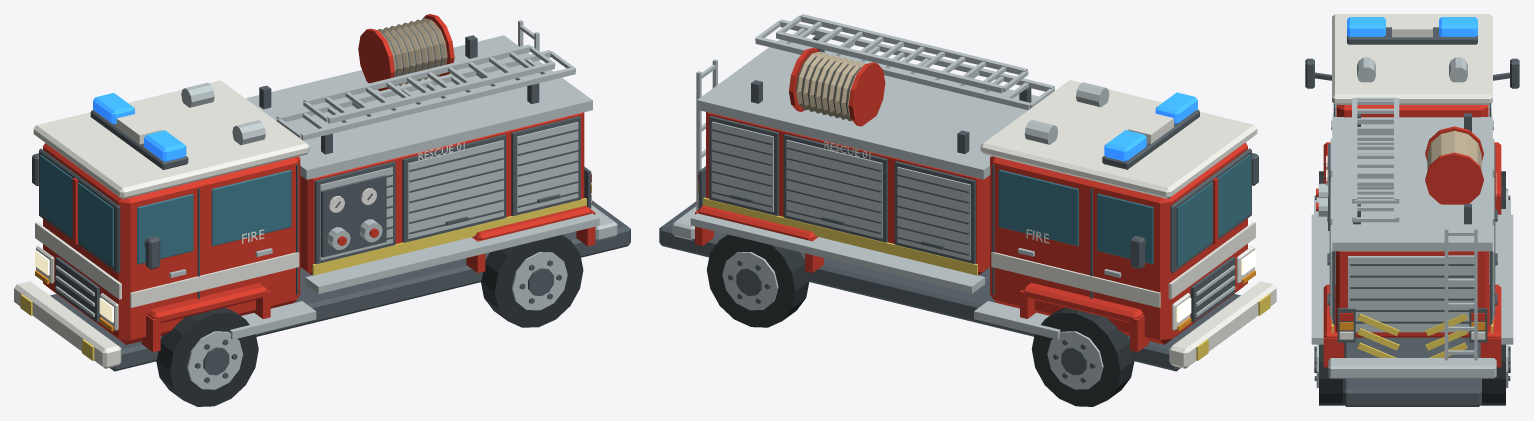
File: Fire_Truck.fbx
The picture shows the model from 3 angles, left to right: view 1: azimuth 30°, elevation 25°; view 2: azimuth 150°, elevation 25°; view 3: azimuth 270°, elevation 25°; orthographic projection. The views are drawn at different scales.
Visible parts, largest first — view 1: Roof Deck, Cabin Roof.001, Crew Cabin, Main Chassis, Locker Roller Shutter.001, Side Running Board, Tire, Tire.002, Cabin Side Window.003, Locker Roller Shutter.002, Equipment Body, Pump Control Panel (+32 smaller); view 2: Roof Deck, Cabin Roof.001, Crew Cabin, Main Chassis, Locker Roller Shutter.004, Side Running Board.001, Tire.001, Locker Roller Shutter.003, Tire.003, Cabin Side Window.005, Locker Roller Shutter.005, Equipment Body (+33 smaller); view 3: Roof Deck, Cabin Roof.001, Rear Door, Main Chassis, Rear Bumper, Equipment Body, Hose Reel Flange.001, Side Running Board.001, Side Running Board, Crew Cabin, Lightbar Base, Tire.002 (+39 smaller).
Part boxes in pixels (x1,y1,x2,y2): Roof Deck: (246, 35, 592, 179); Cabin Roof.001: (33, 80, 309, 199); Crew Cabin: (43, 143, 300, 344); Main Chassis: (50, 200, 630, 371); Locker Roller Shutter.001: (407, 140, 503, 238); Side Running Board: (305, 213, 599, 293); Tire: (156, 307, 258, 406); Tire.002: (481, 234, 583, 327); Cabin Side Window.003: (211, 170, 291, 246); Locker Roller Shutter.002: (516, 122, 578, 212); Equipment Body: (300, 112, 584, 274); Pump Control Panel: (321, 175, 386, 257); Roof Deck: (697, 39, 1038, 179); Cabin Roof.001: (980, 80, 1257, 198); Crew Cabin: (990, 142, 1247, 344); Main Chassis: (659, 201, 1240, 371); Locker Roller Shutter.004: (786, 139, 882, 238); Side Running Board.001: (690, 213, 985, 293); Tire.001: (1031, 307, 1134, 406); Locker Roller Shutter.003: (897, 167, 970, 260); Tire.003: (706, 234, 809, 327); Cabin Side Window.005: (998, 169, 1078, 245); Locker Roller Shutter.005: (711, 121, 773, 212); Equipment Body: (706, 112, 989, 274); Roof Deck: (1332, 117, 1492, 251); Cabin Roof.001: (1332, 14, 1492, 104); Rear Door: (1348, 256, 1474, 332); Main Chassis: (1343, 337, 1481, 406); Rear Bumper: (1328, 358, 1496, 378); Equipment Body: (1335, 251, 1489, 337); Hose Reel Flange.001: (1425, 152, 1483, 204); Side Running Board.001: (1489, 214, 1513, 344); Side Running Board: (1311, 214, 1335, 344); Crew Cabin: (1336, 105, 1488, 117); Lightbar Base: (1347, 27, 1477, 44); Tire.002: (1319, 344, 1344, 405).
Bounding box in the file's own units: 704 × 328 × 270.
